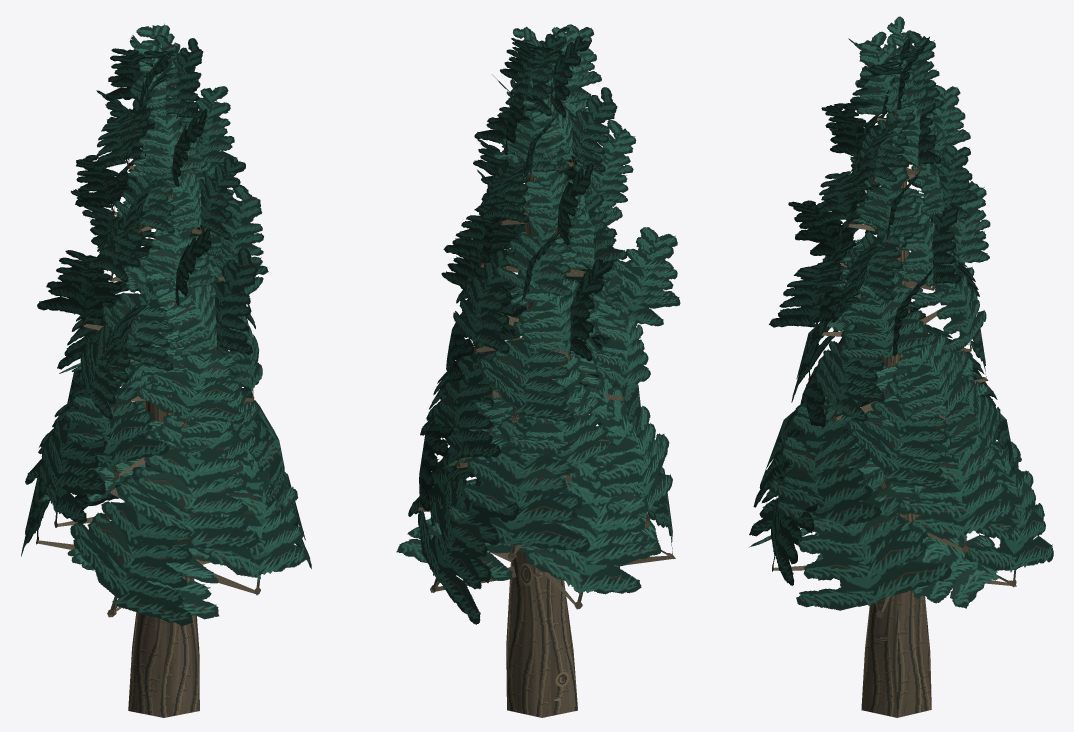
File: whorled-pine-near.glb
3 renders of one model, left to right at view 1: azimuth 30°, elevation 25°; view 2: azimuth 150°, elevation 25°; view 3: azimuth 270°, elevation 25°, orthographic.
Parts seen in each view (by area): view 1: Whorled pine near v3 runtime; view 2: Whorled pine near v3 runtime; view 3: Whorled pine near v3 runtime.
Boxes of the visible parts, x1,y1,x2,y2 form: Whorled pine near v3 runtime: (21,23,311,717); Whorled pine near v3 runtime: (396,24,680,717); Whorled pine near v3 runtime: (749,16,1053,717).
Size of the model in its own units: 4.58 by 10.15 by 4.46.
Materials: 1 (1 with a texture image).
